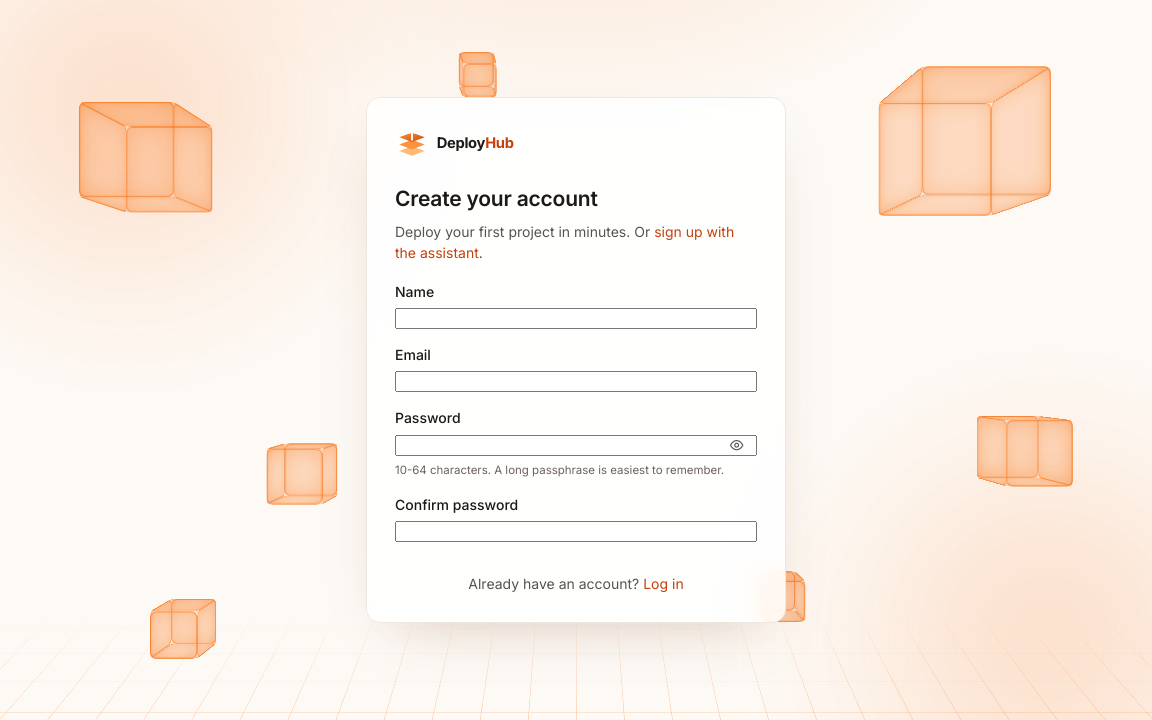
Test case: SignupComponent › requires matching passwords
This screenshot has width=1152, height=720.
Type "Bob" into the field labelled "Name" at point(576, 319), box [395,308,757,329]
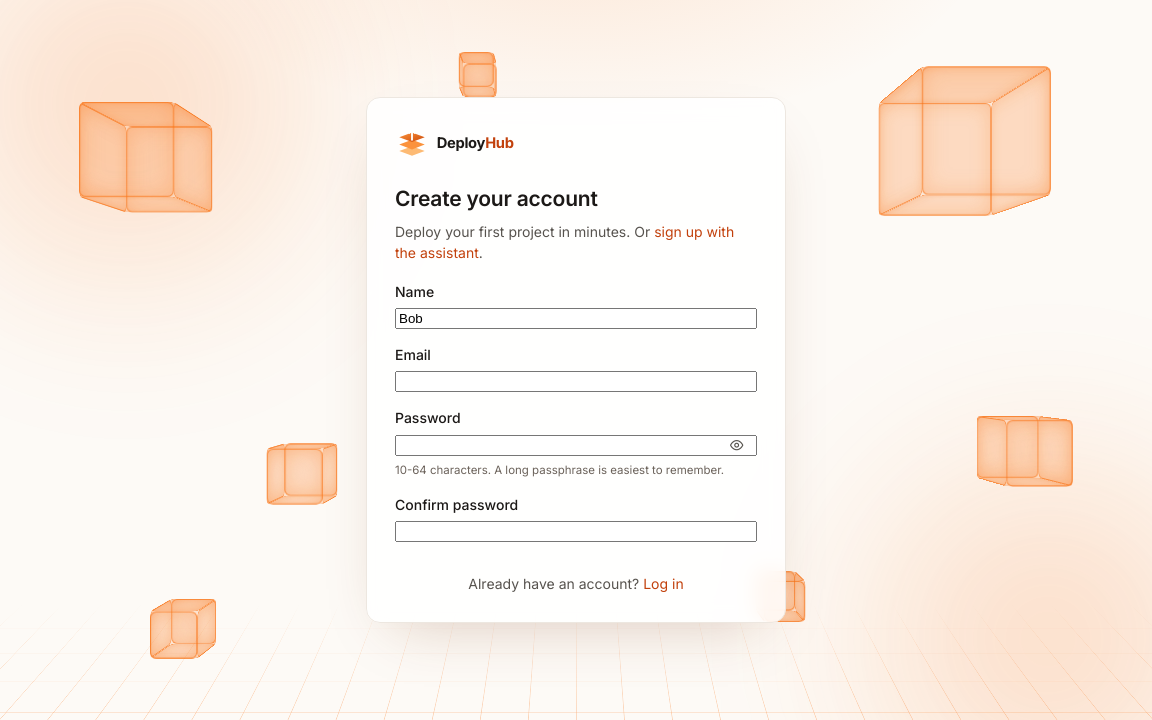
Type "bob@example.com" into the field labelled "Email" at point(576, 382), box [395,371,757,392]
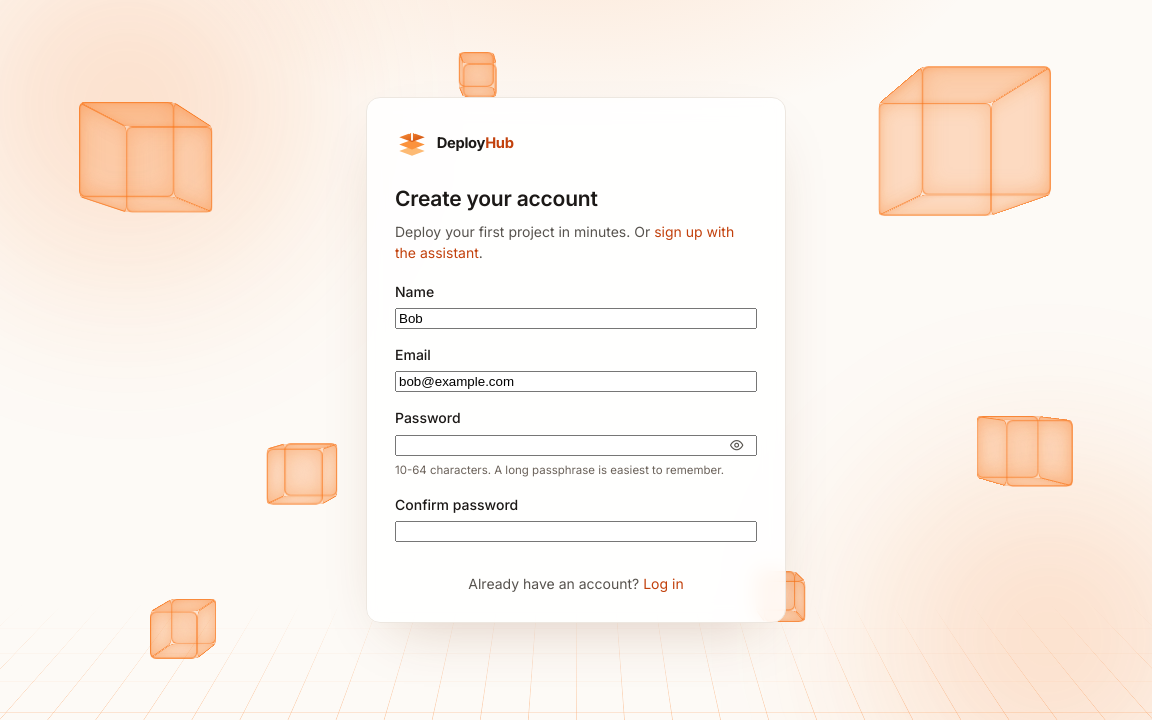
Type "correct-horse-battery" into the password field labelled "Password" at point(576, 446), box [395,435,757,456]
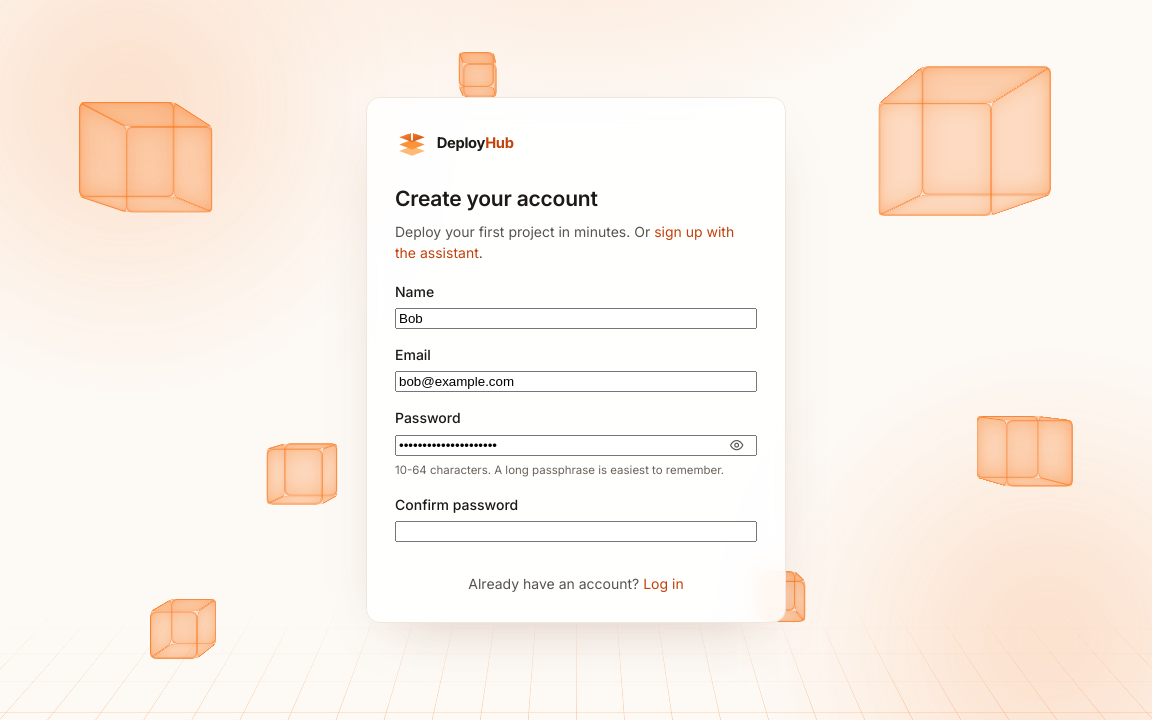
Type "something-else-1" into the password field labelled "Confirm password" at point(576, 531), box [395,521,757,542]
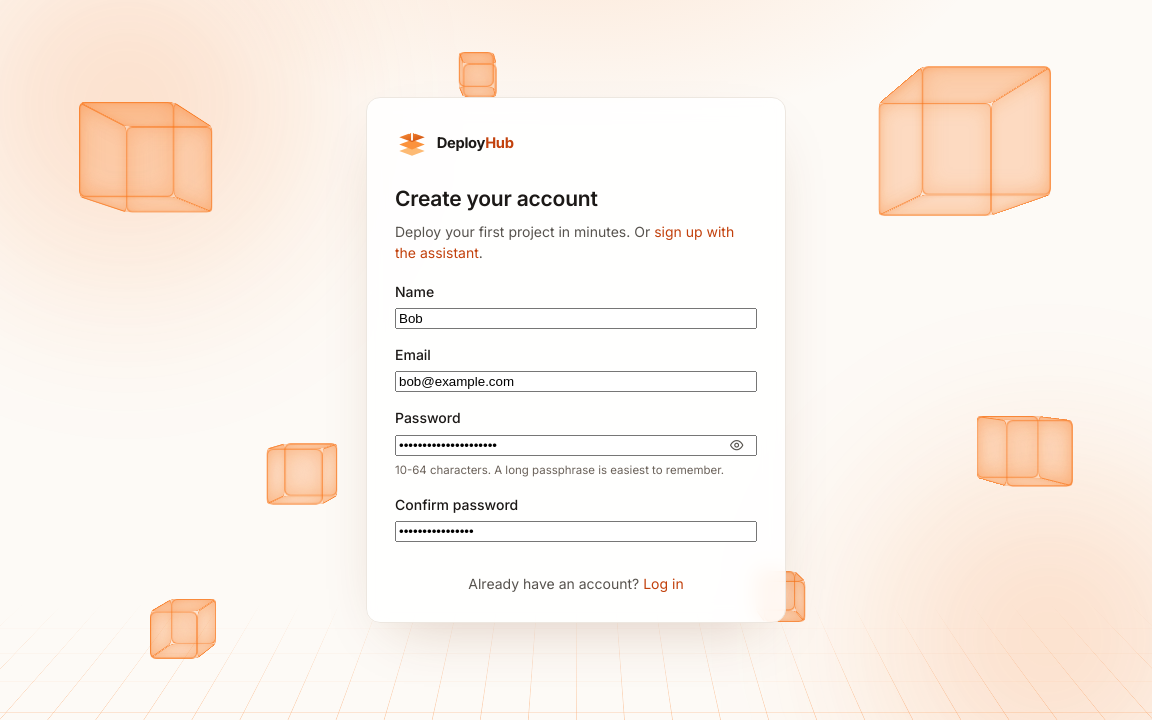
Submit the form, box [366,97,786,623]
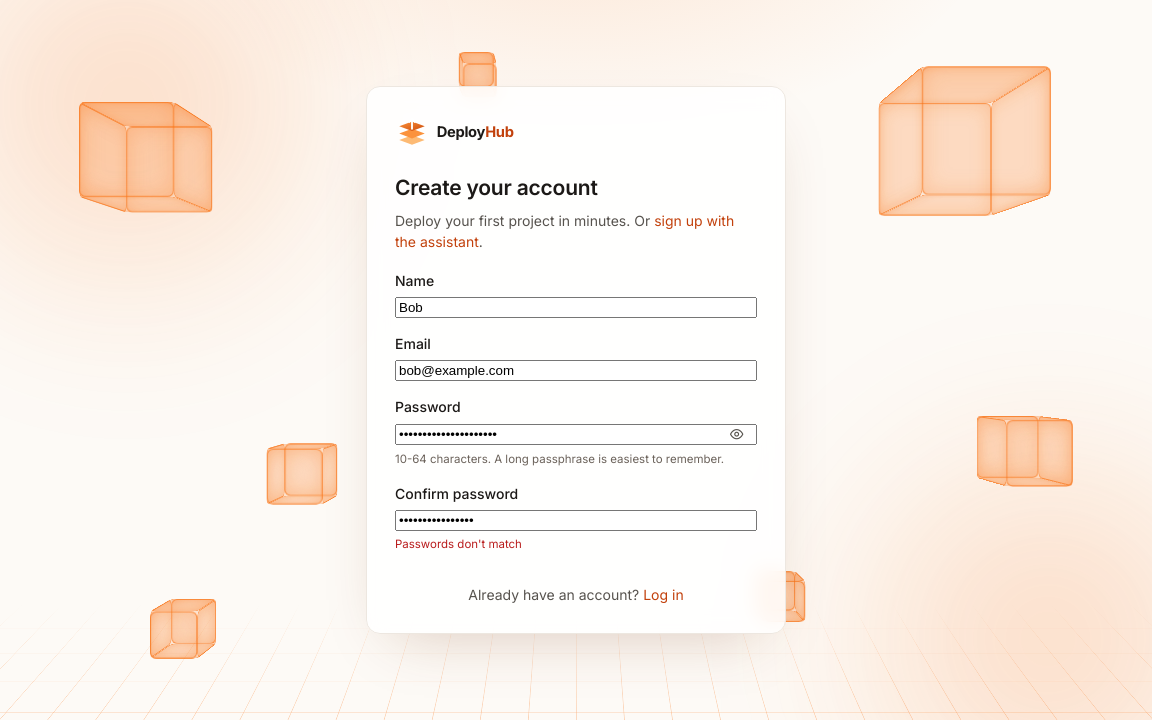
Expected: the text "Passwords don't match" is shown, [395,537,522,551]
